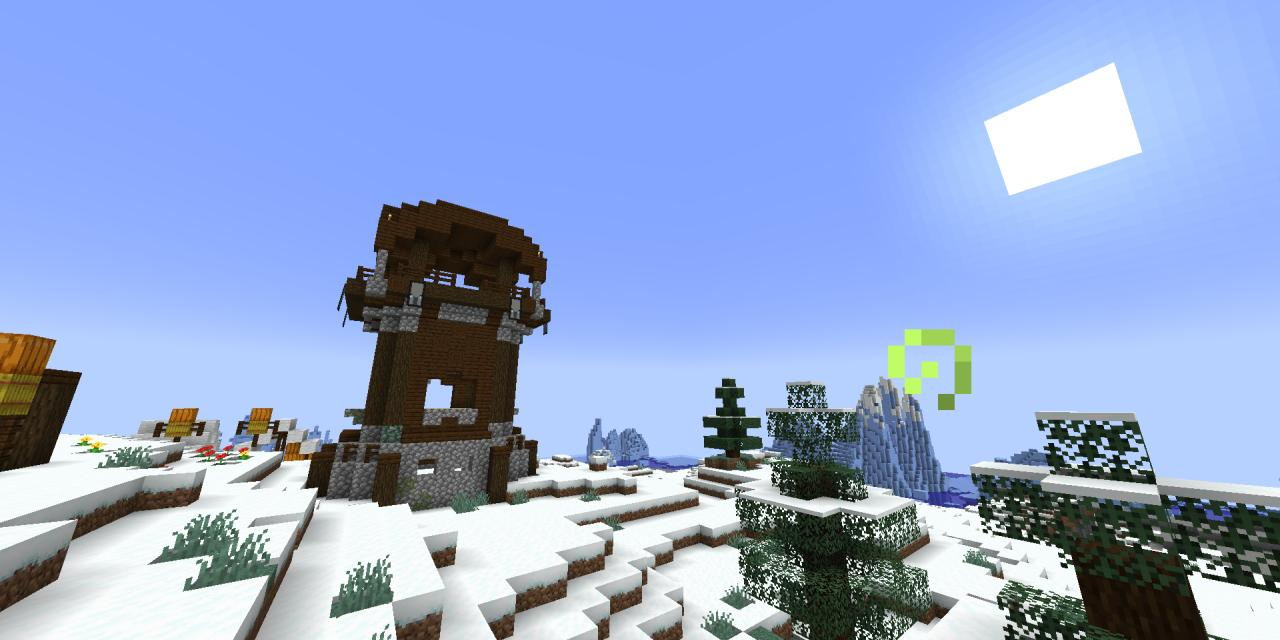pillager outpost: (281, 194, 570, 514)
